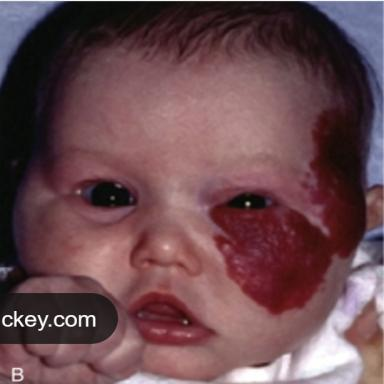Hemangiome: (211, 205, 332, 313)
